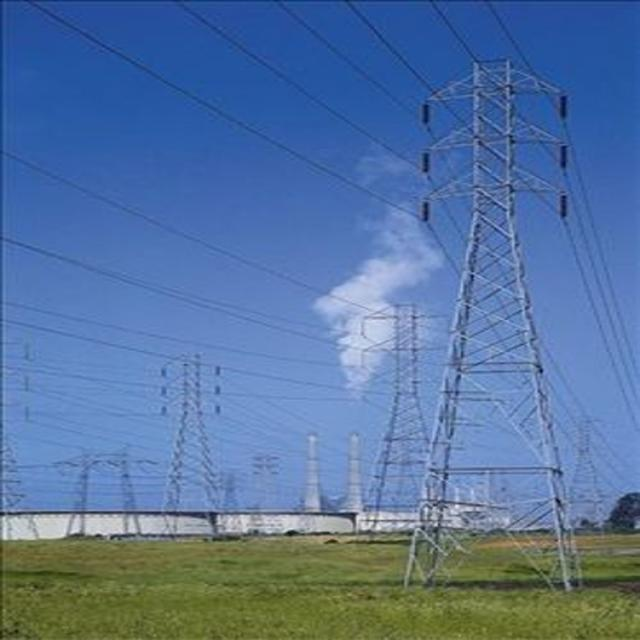non-critical vegetation: (396, 57, 608, 594)
